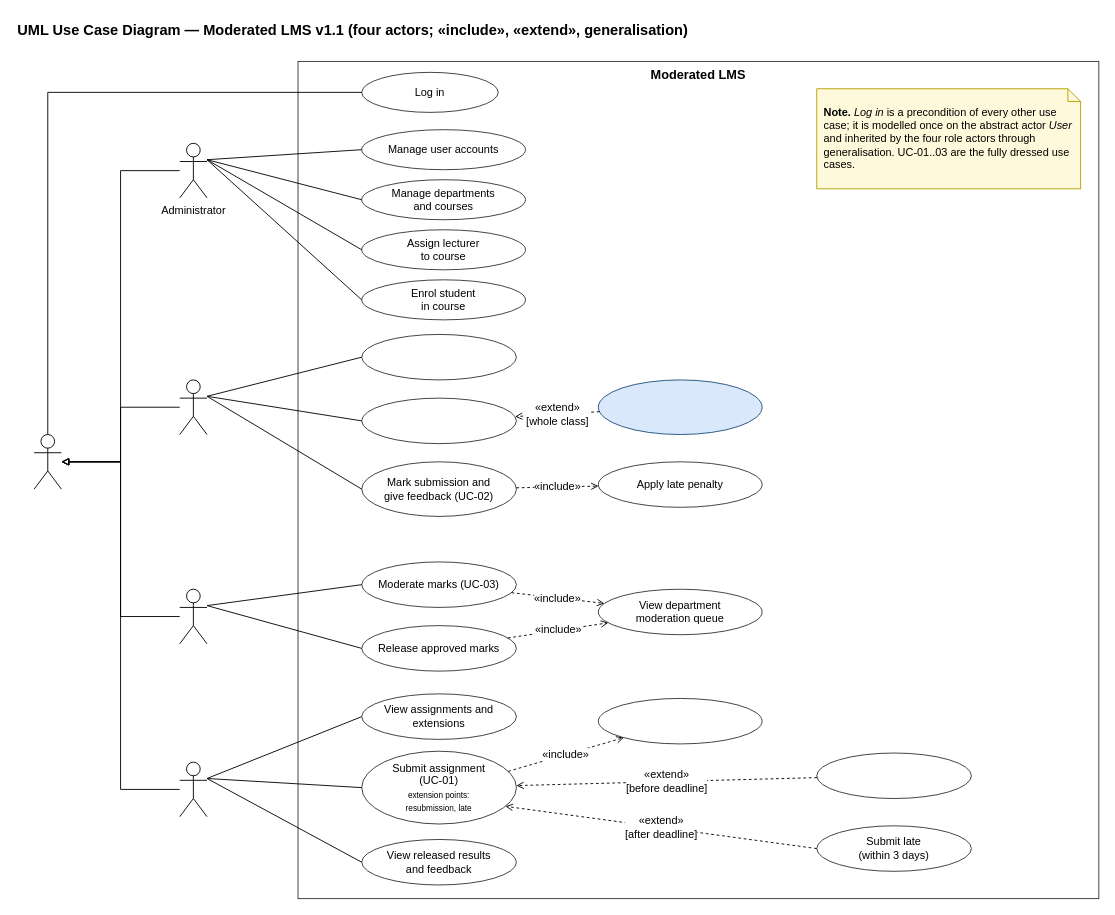
Some shapes in this 1115 by 915 pixel diagram are drawn without their labels. Each missing label, with the box of its shape:
Create assignment: (361, 334, 516, 380)
Determine applicable deadline: (597, 698, 762, 744)
Grant class-wide extension (CR1, v1.1): (597, 379, 762, 435)
Grant extension: (361, 397, 516, 444)
Head of Department: (179, 588, 207, 644)
Lecturer: (179, 379, 207, 435)
Resubmit before deadline: (816, 752, 971, 799)
Student: (179, 761, 207, 817)
User {abstract}: (33, 434, 61, 489)
